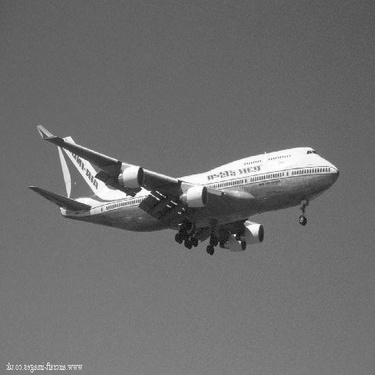airplane: (23, 121, 342, 260)
